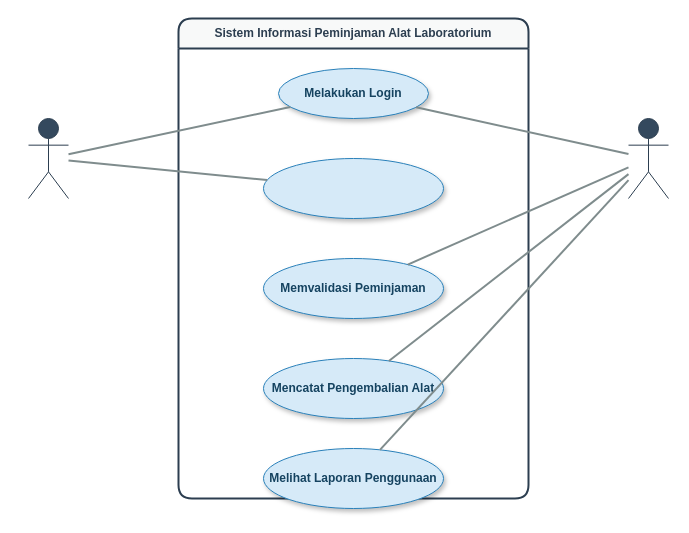
Some shapes in this 689 by 533 pixel diagram are drawn without their labels. Each missing label, with the centre of its shape:
"Laboran" belongs at (x=648, y=158).
"Mahasiswa" belongs at (x=48, y=158).
"Mengajukan Peminjaman Alat" belongs at (x=354, y=190).
